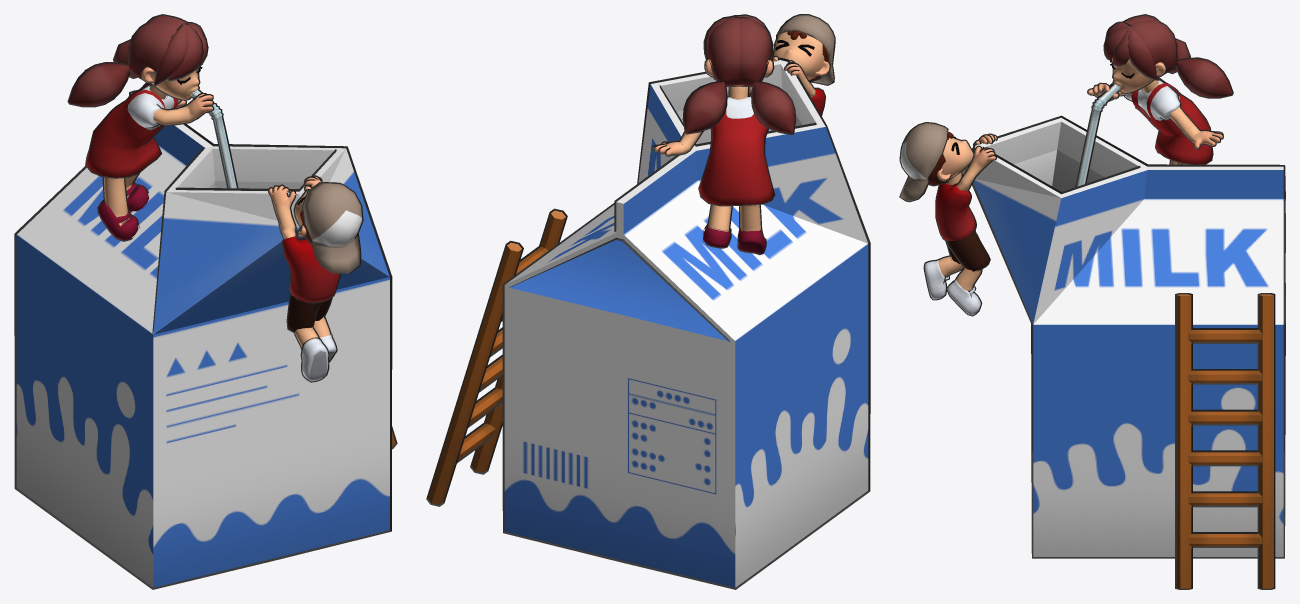
File: cow.glb
The picture shows the model from 3 angles, left to right: view 1: azimuth 30°, elevation 25°; view 2: azimuth 150°, elevation 25°; view 3: azimuth 270°, elevation 25°; orthographic projection. The views are drawn at different scales.
Visible parts, largest first — view 1: Mesh_Material_0, Outline.001, Outline; view 2: Mesh_Material_0, Outline.001, Outline, Outline.002; view 3: Mesh_Material_0, Outline.002, Outline.001, Outline.
Part boxes in pixels (<box>): Mesh_Material_0: <box>16,15,395,587</box>; Outline.001: <box>14,90,392,589</box>; Outline: <box>67,14,363,382</box>; Mesh_Material_0: <box>428,15,868,587</box>; Outline.001: <box>502,57,870,589</box>; Outline: <box>652,14,835,255</box>; Outline.002: <box>426,208,567,506</box>; Mesh_Material_0: <box>900,15,1283,588</box>; Outline.002: <box>1175,293,1275,589</box>; Outline.001: <box>972,115,1285,558</box>; Outline: <box>899,14,1233,316</box>.
Bounding box in the file's own units: 1.49 × 2.2 × 1.65.
Materials: 2 (1 with a texture image).
